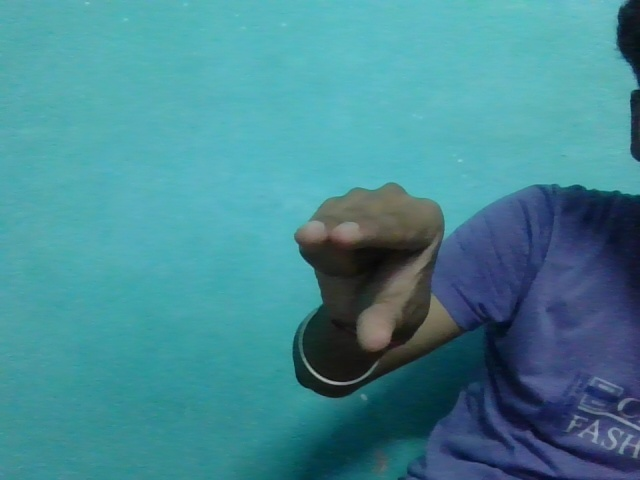no: (286, 177, 458, 350)
